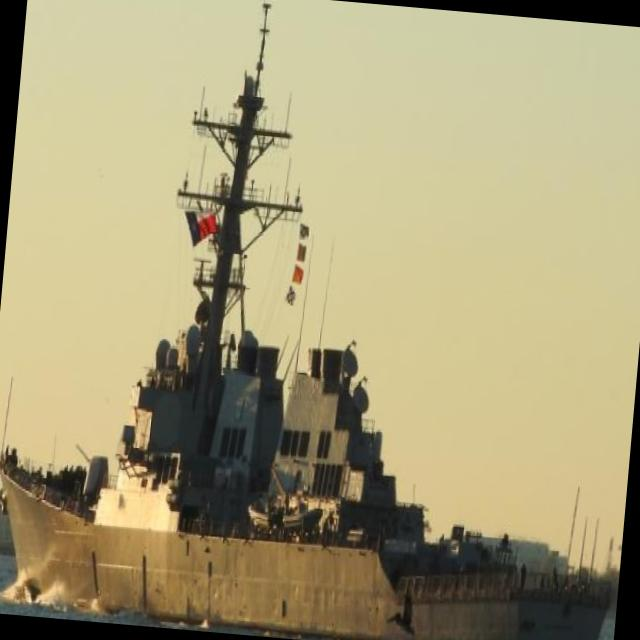Military: (1, 2, 608, 640)
